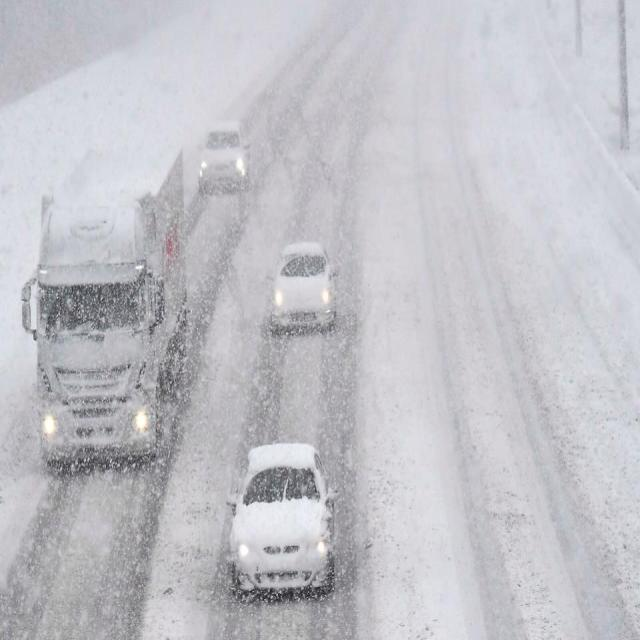bus: (24, 136, 187, 472)
car: (231, 445, 334, 597), (265, 243, 335, 336), (198, 120, 252, 186)
